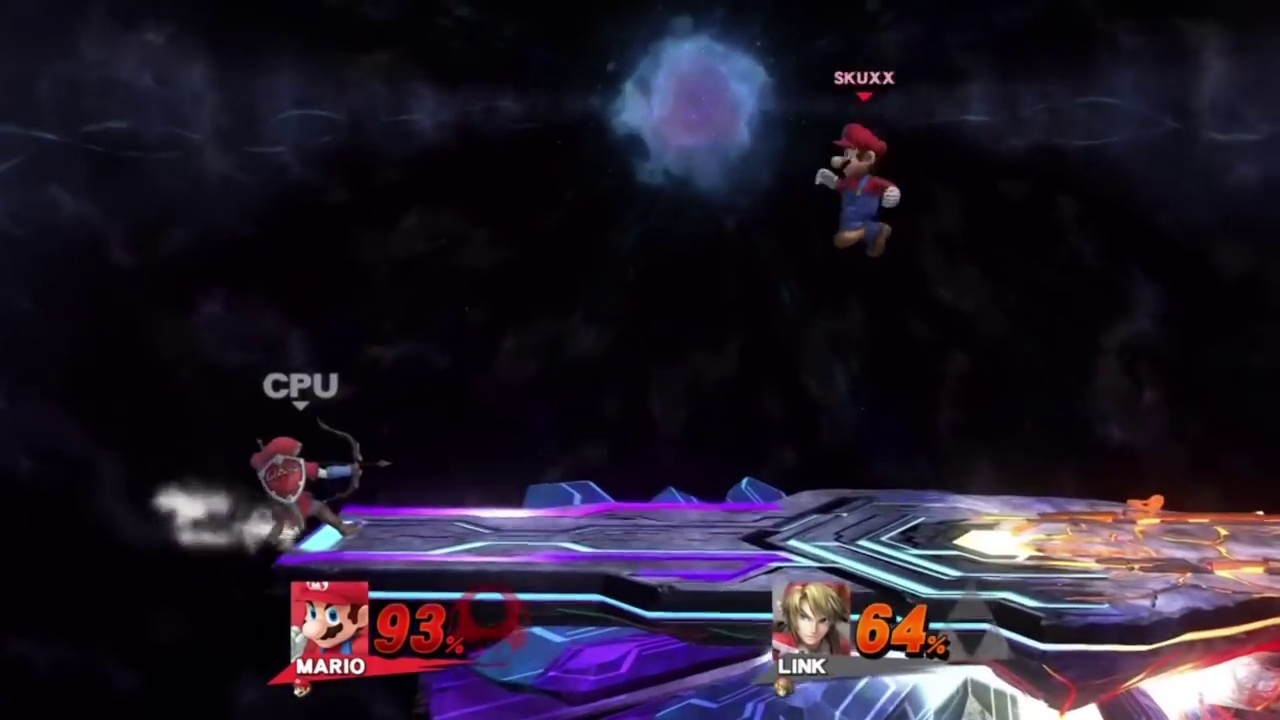Mario: (816, 123, 900, 256)
